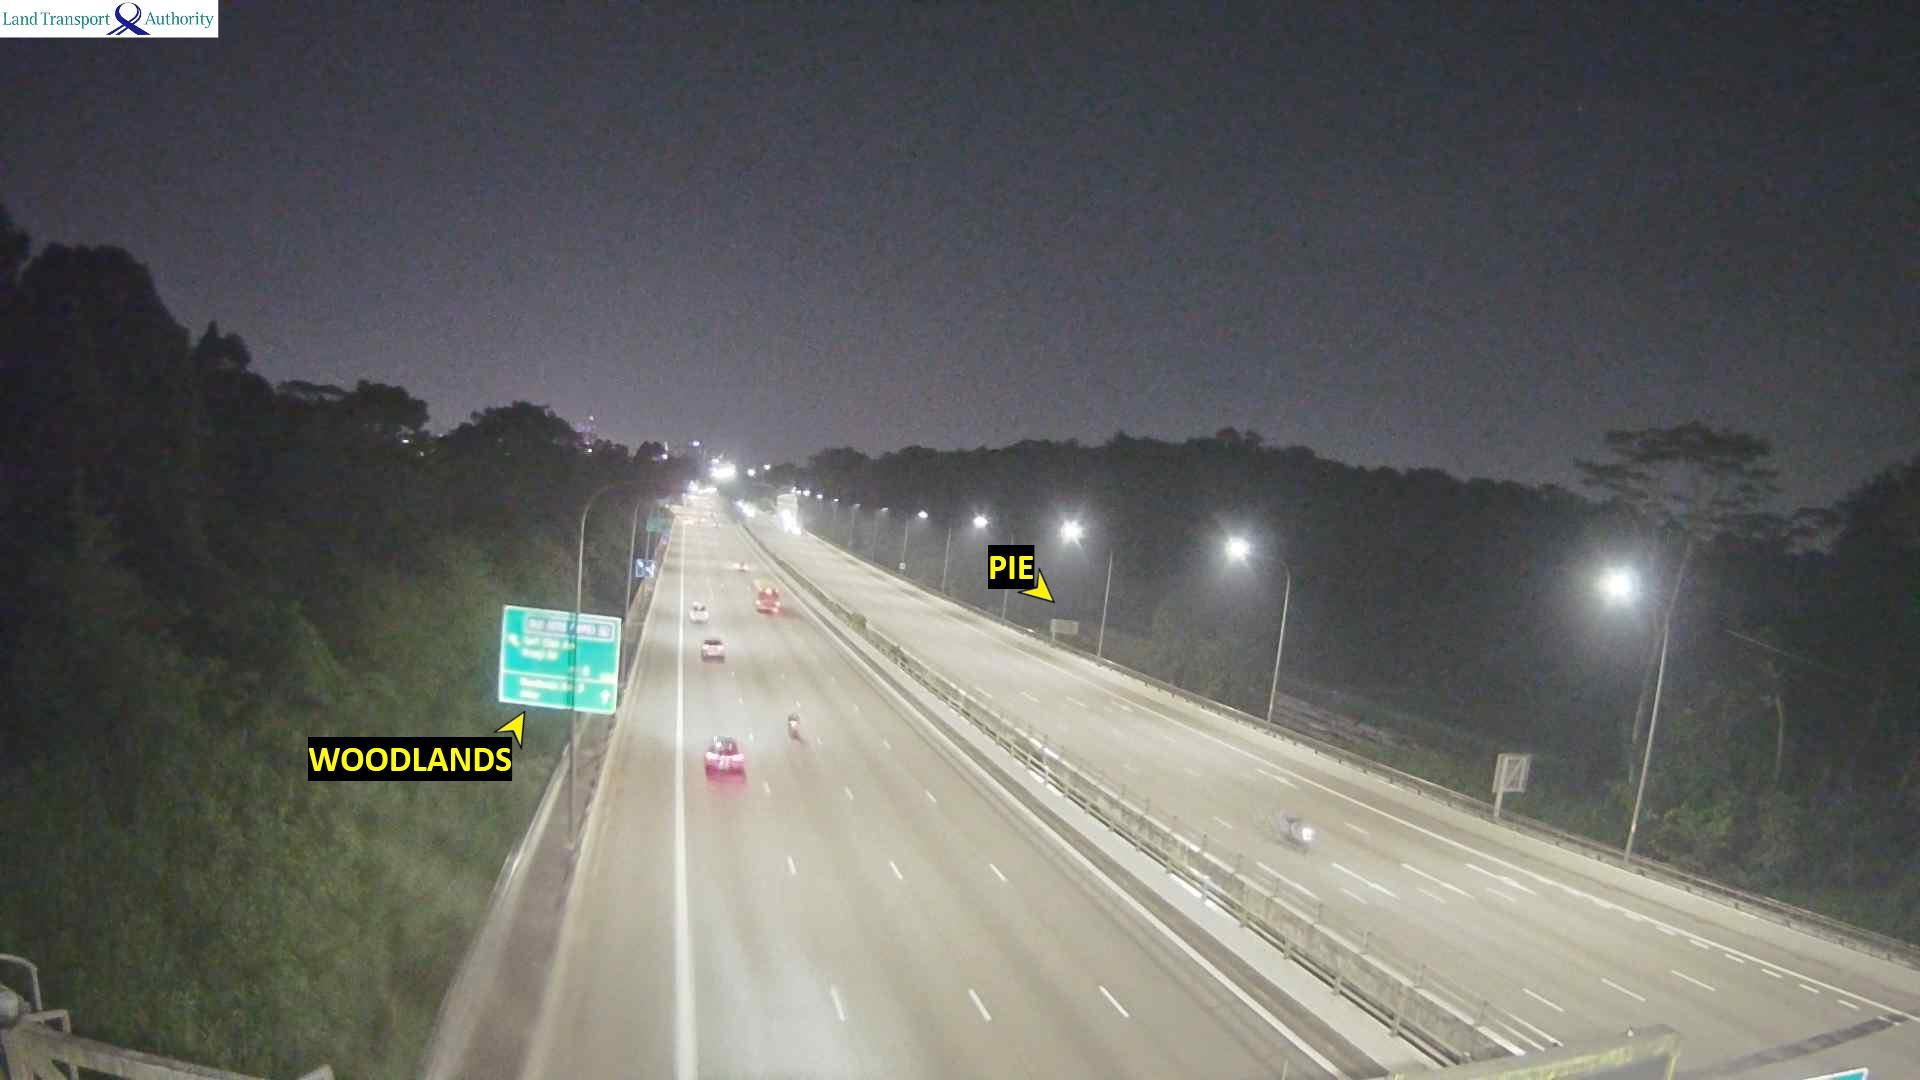cars: (703, 735, 745, 776), (1276, 810, 1314, 850), (753, 584, 781, 613), (699, 636, 724, 659), (688, 600, 708, 622), (734, 561, 749, 571)
motorcycle: (786, 711, 799, 738)
